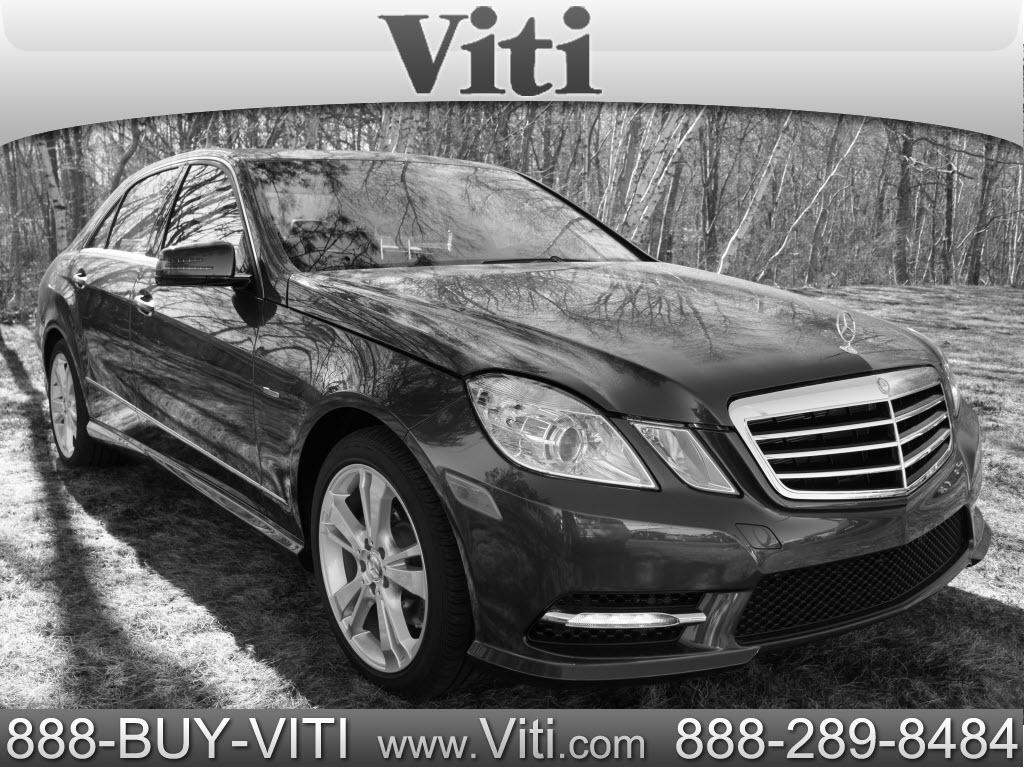car: (36, 150, 991, 689)
